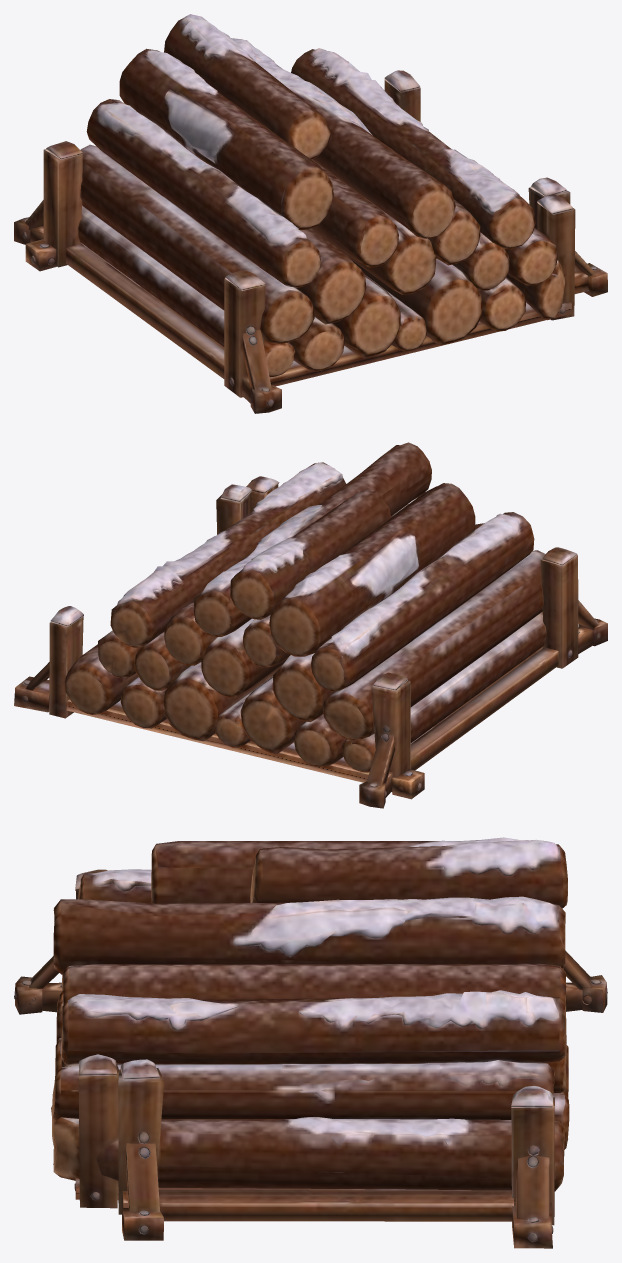
Rendered from HK_log_pile.glb.
The picture shows the model from 3 angles, top to bottom: view 1: azimuth 30°, elevation 25°; view 2: azimuth 150°, elevation 25°; view 3: azimuth 270°, elevation 25°; orthographic projection. The views are drawn at different scales.
Size of the model in its own units: 0.9492 by 0.4551 by 0.9551.
Materials: 1 (1 with a texture image).
